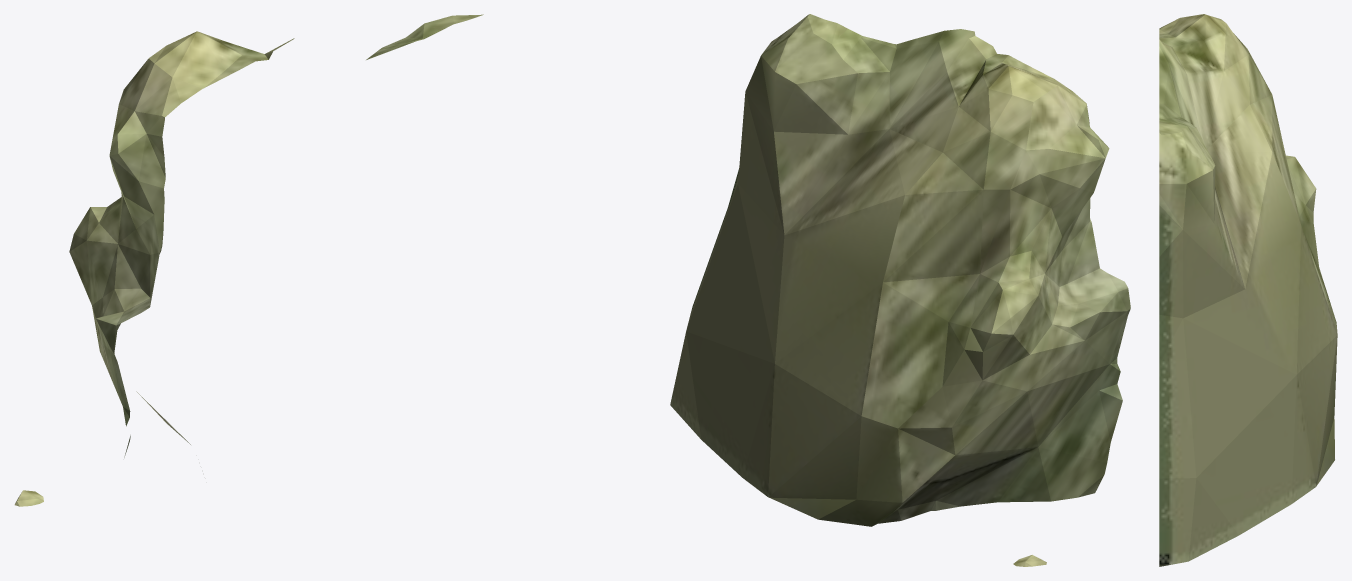
3 views of the same model, side by side, from view 1: azimuth 30°, elevation 25°; view 2: azimuth 150°, elevation 25°; view 3: azimuth 270°, elevation 25° (orthographic). The views are drawn at different scales.
Bounding box in the file's own units: 3.76 × 3.39 × 1.39.
1 material, 1 textured.
